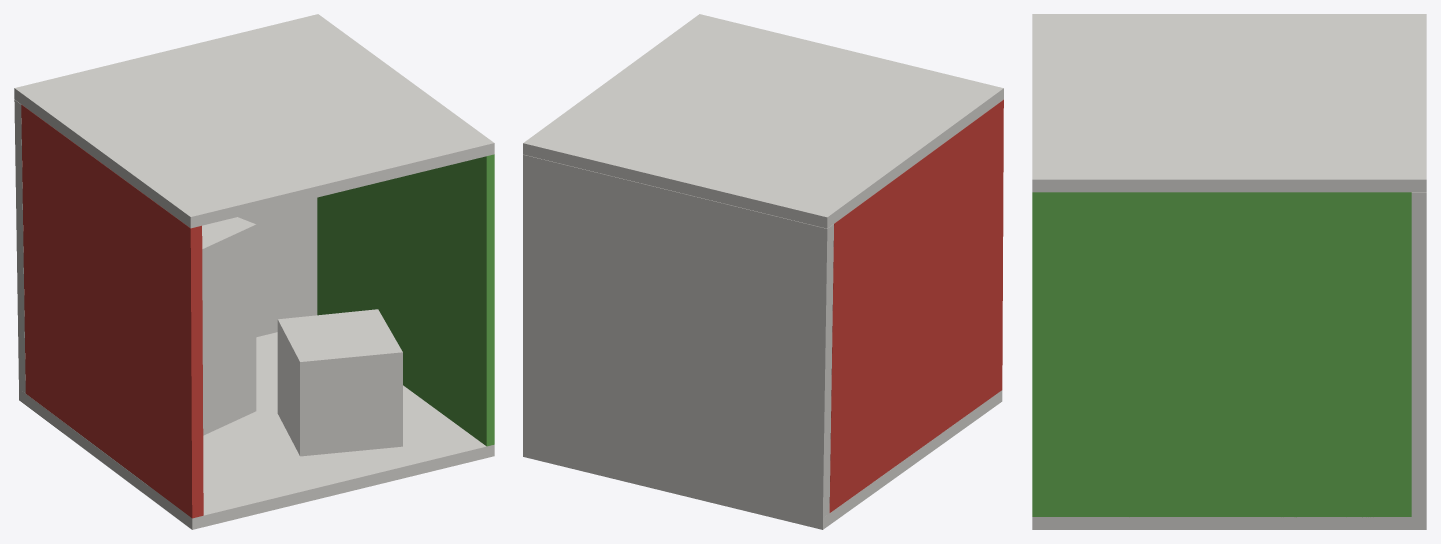
The model's file is CornellBox.gltf.
3 views of the same model, side by side, from view 1: azimuth 30°, elevation 25°; view 2: azimuth 150°, elevation 25°; view 3: azimuth 270°, elevation 25° (orthographic). The views are drawn at different scales.
Parts seen in each view (by area): view 1: CornellBox-Original; view 2: CornellBox-Original; view 3: CornellBox-Original.
Part boxes in pixels (x1,y1,x2,y2): CornellBox-Original: (14, 14, 494, 529); CornellBox-Original: (523, 14, 1003, 529); CornellBox-Original: (1032, 14, 1426, 529).
Size of the model in its own units: 2.02 by 1.99 by 2.03.
